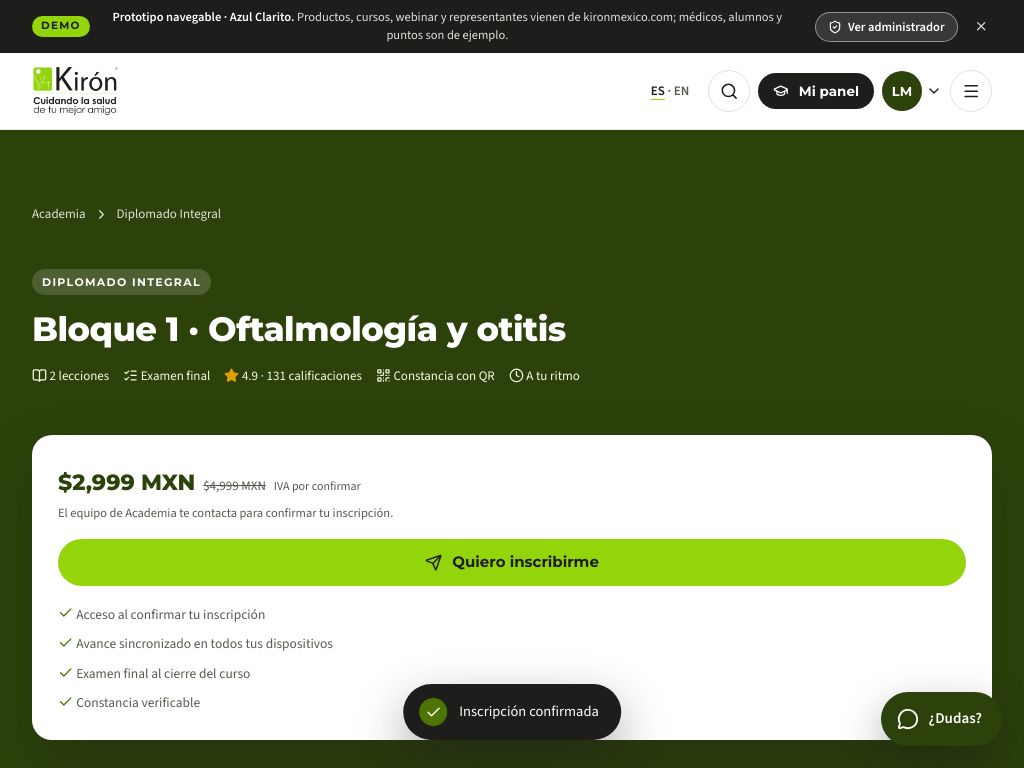
it: inscripción a cursos › curso con precio: envía la solicitud (sin cobro) y muestra que está en revisión
Check: the text "$2,999 MXN" is shown, box [58,469,195,496]
Check: the text "IVA por confirmar" is shown, box [274,477,361,496]
Click the button "Quiero inscribirme" at point(512, 562), box [58,539,966,586]
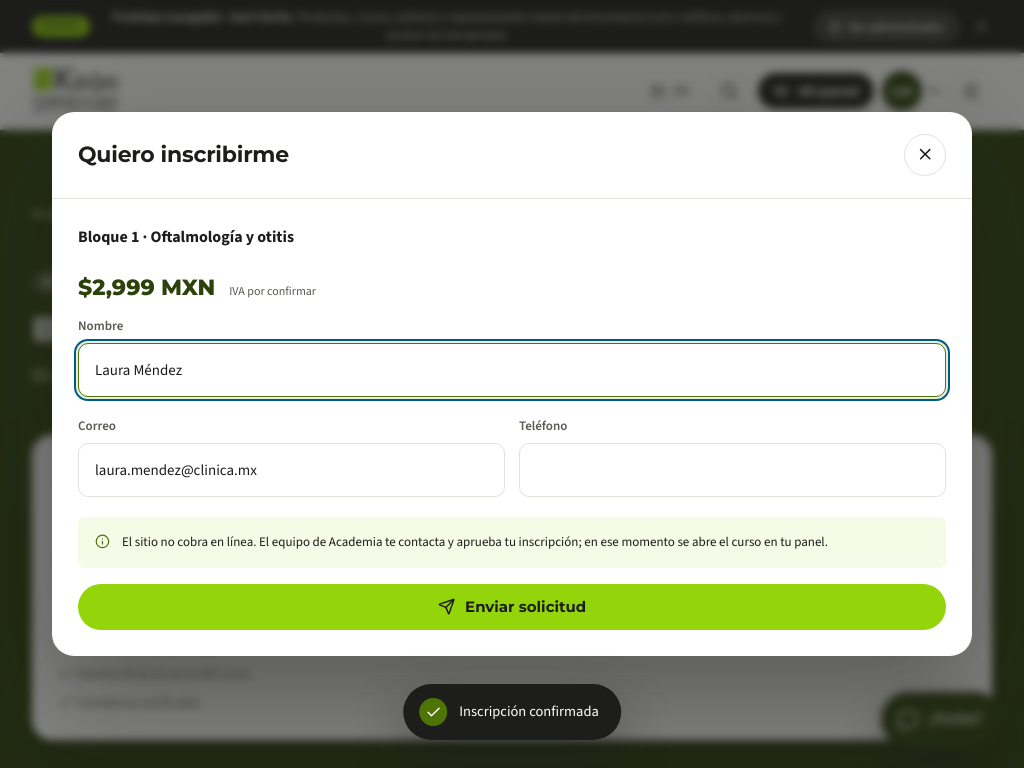
Type "5500000000" into the field labelled "Teléfono" at point(732, 470), box [519,443,946,497]
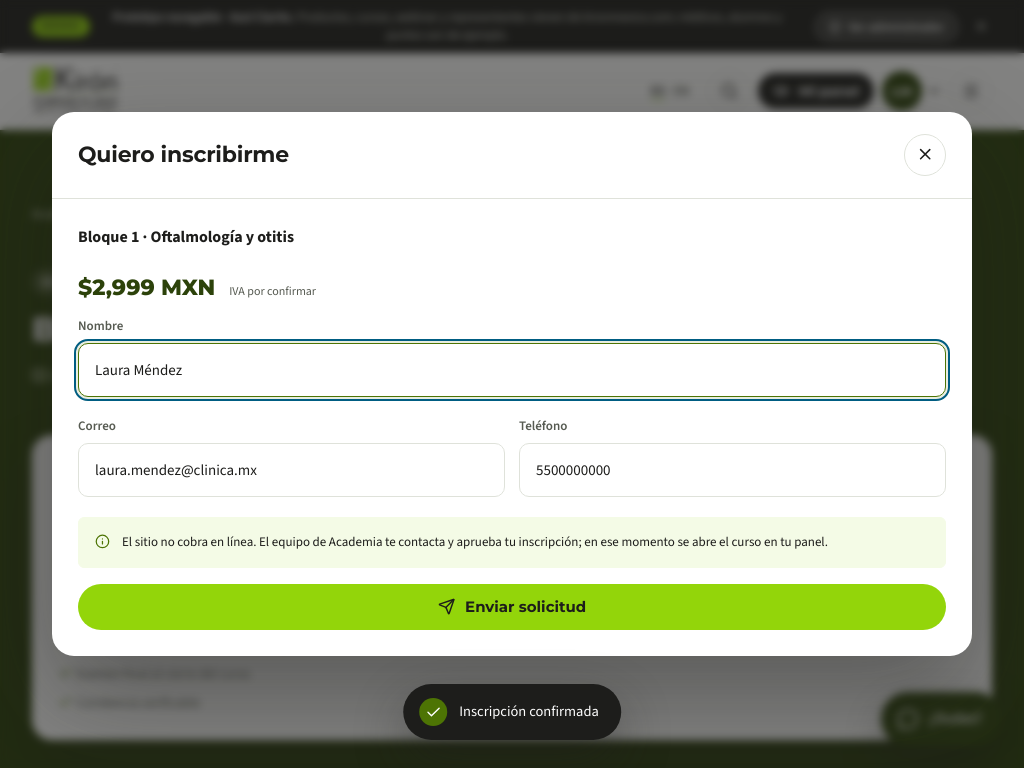
Click the button "Enviar solicitud" at point(512, 607), box [78,584,946,630]
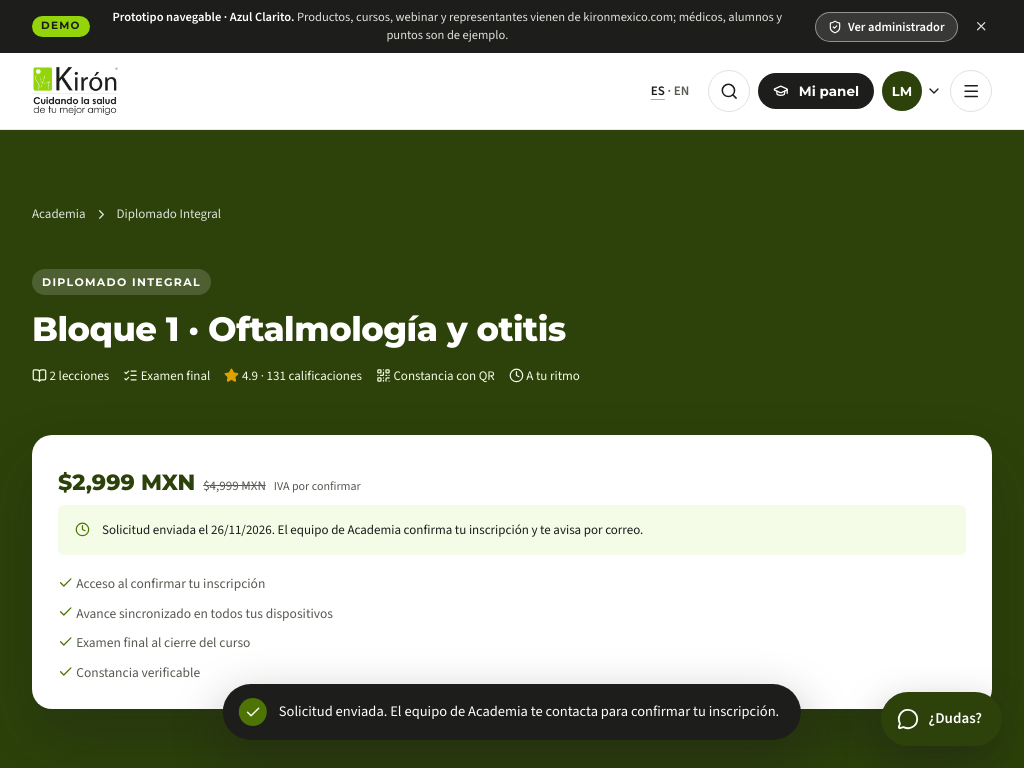
Check: the text "Solicitud enviada el 26/11/2026" is shown, box [102,521,643,539]
Check: the dialog is gone
